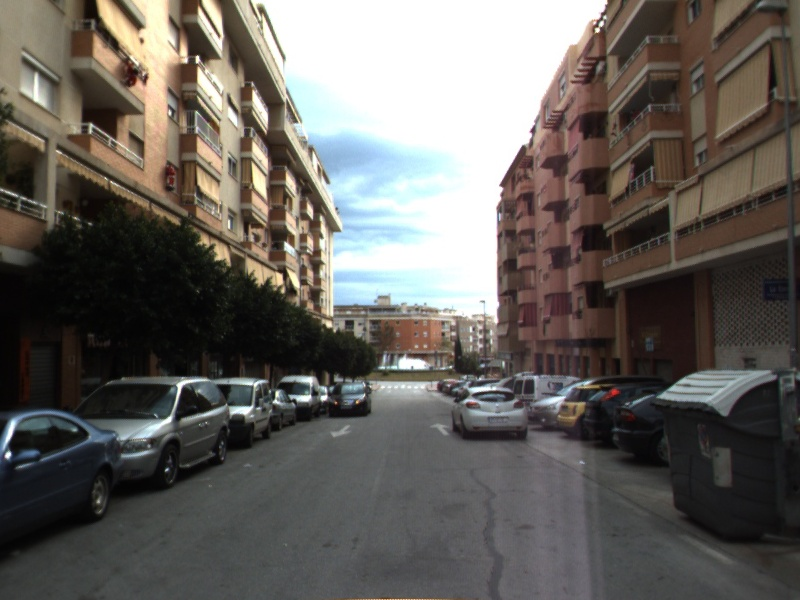STRAIGHT: (428, 421, 452, 437)
